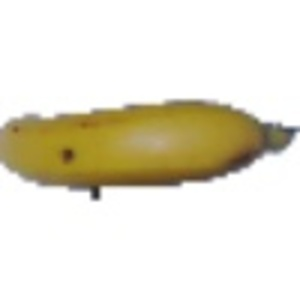banana: (2, 98, 297, 193)
